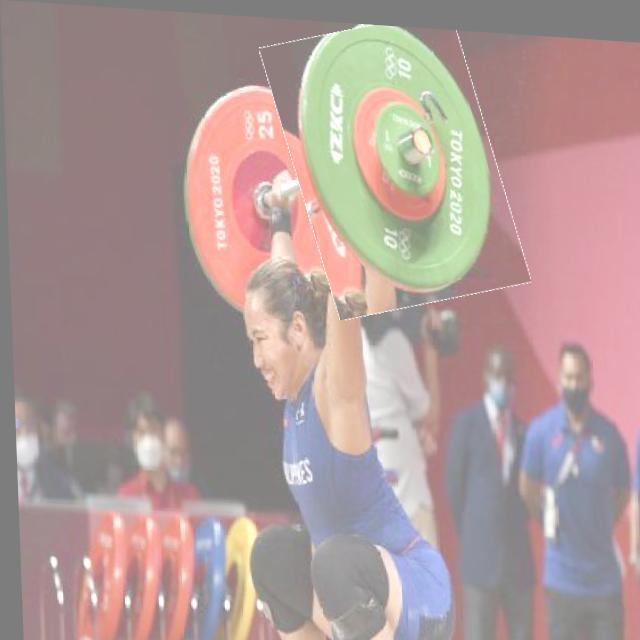barbell: (275, 15, 515, 315)
